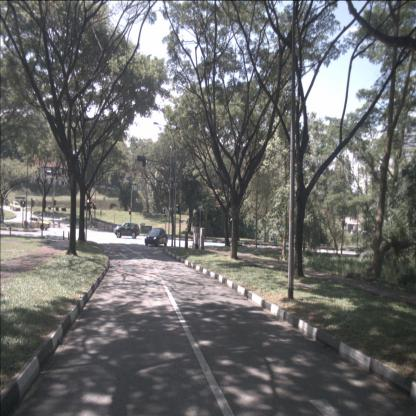vehicle-car: (114, 222, 140, 239), (145, 228, 168, 246), (24, 217, 50, 230), (10, 201, 21, 211)
